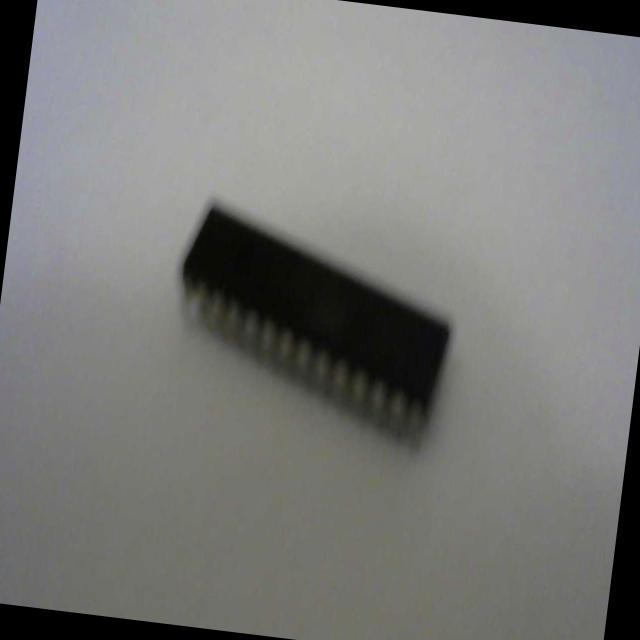atmega: (158, 190, 467, 458)
